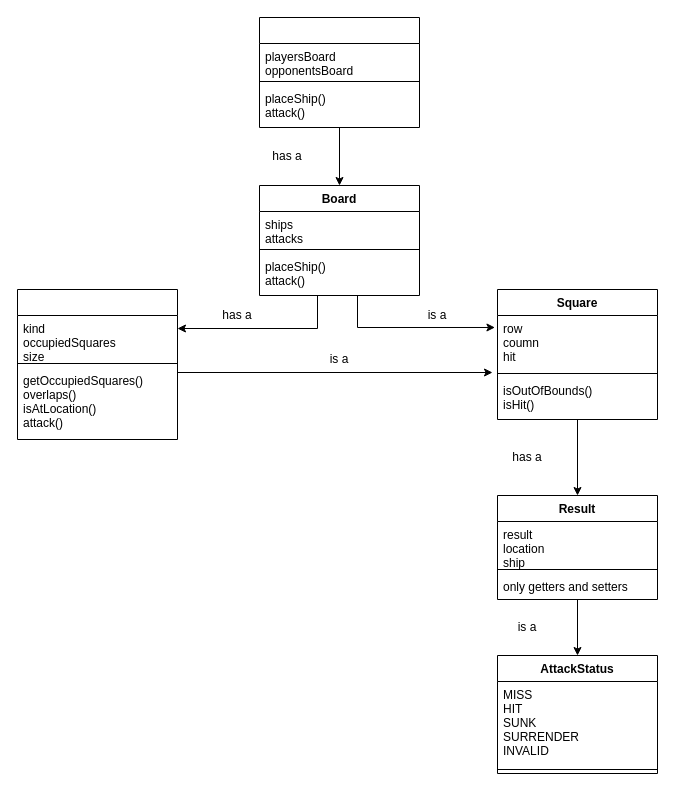
The diagram is 675 pixels wide and 791 high, and some of its shapes have lost their labels. The box of each missing label's shape, as (x1, y1, x2, y2) in pixels:
Game: (258, 16, 420, 128)
Ship: (16, 288, 178, 440)
